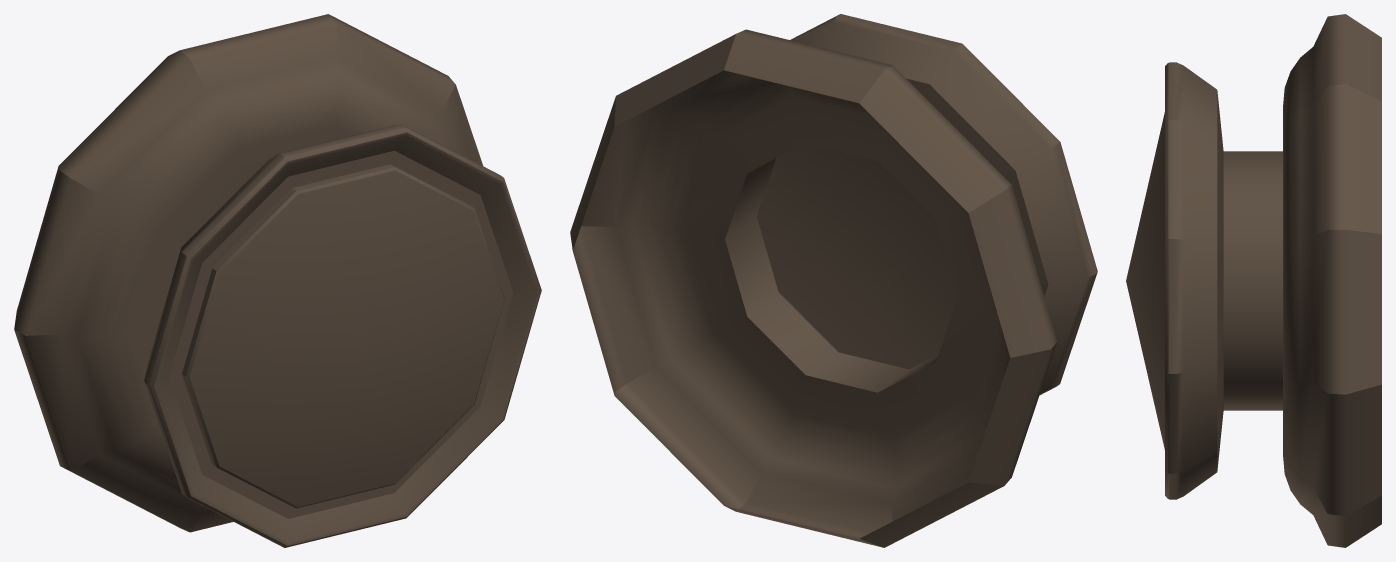
Rendered from Drawerhandle.fbx.
The picture shows the model from 3 angles, left to right: view 1: azimuth 30°, elevation 25°; view 2: azimuth 150°, elevation 25°; view 3: azimuth 270°, elevation 25°; orthographic projection. The views are drawn at different scales.
Parts seen in each view (by area): view 1: DeskHandle; view 2: DeskHandle; view 3: DeskHandle.
Boxes of the visible parts, box(x1,y1,x2,y2) form: DeskHandle: box(14, 14, 541, 547); DeskHandle: box(570, 14, 1097, 547); DeskHandle: box(1126, 14, 1381, 547).
Bounding box in the file's own units: 0.2102 × 0.1999 × 0.1.
